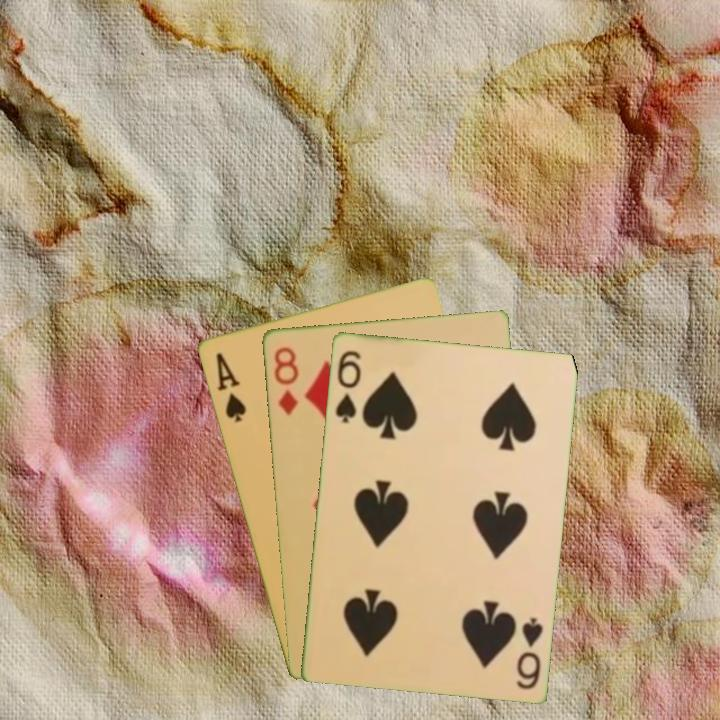6s: (512, 613, 546, 692), (331, 346, 363, 425)
8d: (270, 342, 301, 418)
As: (212, 348, 249, 425)
